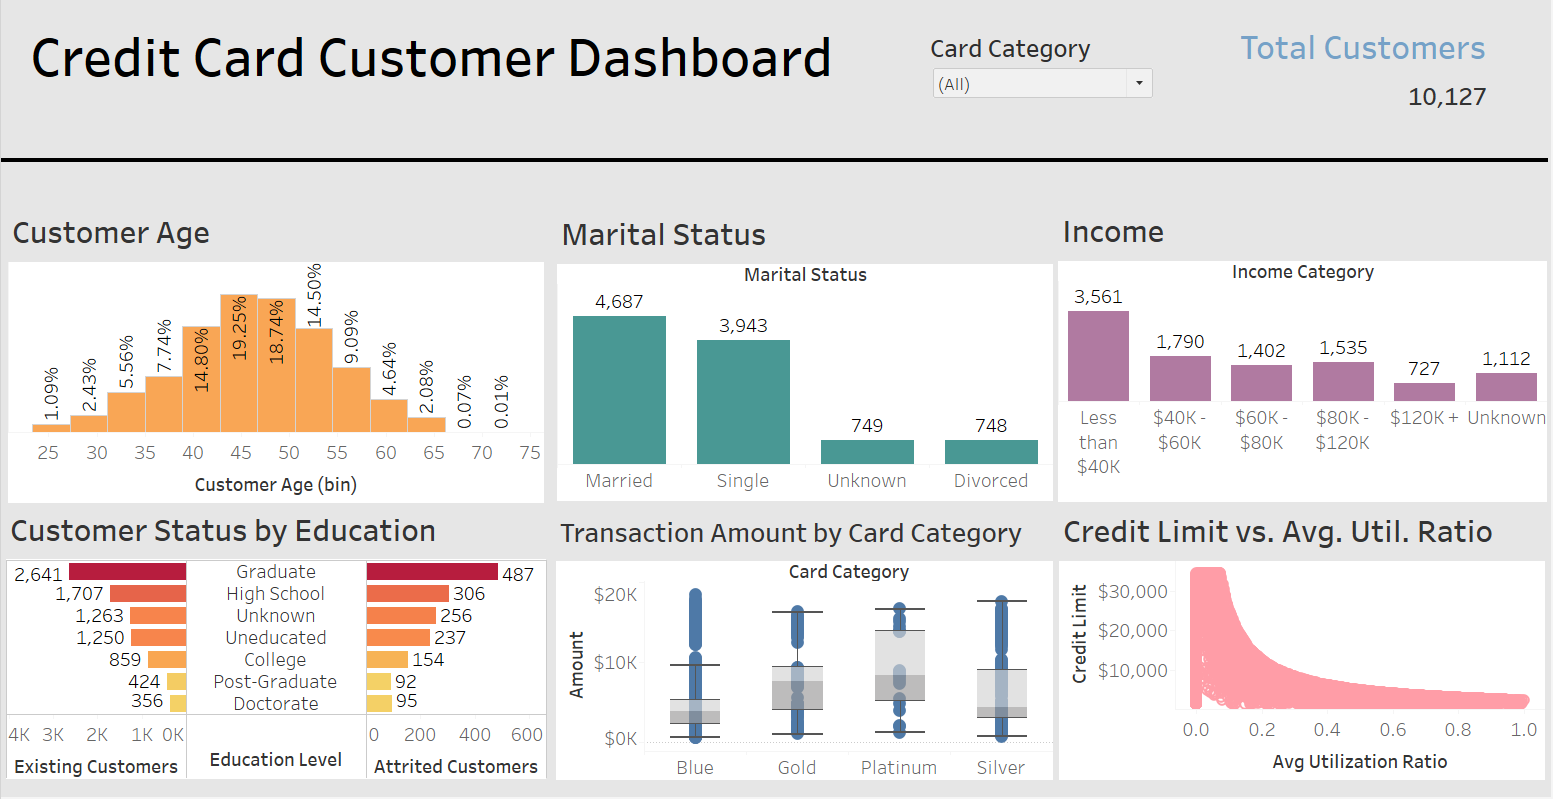

The page's visual inventory and layout, read from the dashboard file:
{"tool":"tableau","page":{"name":"Dashboard 1","canvas":[1550,800],"ordinal":0},"visuals":[{"type":"text","box":[24.8,11,921.7,93]},{"type":"worksheet","title":"Total Customers","mark":"Automatic","box":[1235,23,279,124]},{"type":"filter","title":"Total Transaction Amount by Card Category","param":"[federated.10qff5a03vnng219utbjl1v2qbsm].[none:Card_Category:nk]","box":[929,34,226,70]},{"type":"blank","box":[0,161,1547,4]},{"type":"worksheet","title":"Income","mark":"Automatic","rows":["Income_Category"],"cols":["Income_Category"],"box":[1057.1,208,488.8,297]},{"type":"worksheet","title":"Customer Age","mark":"Automatic","rows":["Customer_Age"],"cols":["Customer Age (bin)"],"box":[7,209,536,297]},{"type":"worksheet","title":"Marital Status","mark":"Automatic","rows":["Marital_Status"],"cols":["Marital_Status"],"box":[556,211,496,293]},{"type":"worksheet","title":"Customer Status by Education","mark":"Automatic","rows":["Education_Level"],"cols":["Calculation_1074390017086087168","Calculation_1074390017086836738","Calculation_1074390017086390273"],"box":[5,507,543,287]},{"type":"worksheet","title":"Credit Limit vs. Avg. Util. Ratio","mark":"Automatic","rows":["Credit_Limit"],"cols":["Avg_Utilization_Ratio"],"box":[1058,508,486,275]},{"type":"worksheet","title":"Total Transaction Amount by Card Category","mark":"Circle","rows":["Total_Trans_Amt"],"cols":["Card_Category"],"box":[555,513,497,270]}]}

Visuals, with their boxes in screenshot pixels (x1, y1, x2, y2), scaled from the page's 1550x800 canvas onto the 1553x799 screenshot:
text: (x1=25, y1=11, x2=948, y2=104)
"Total Customers" worksheet: (x1=1237, y1=23, x2=1517, y2=147)
"Total Transaction Amount by Card Category" filter: (x1=931, y1=34, x2=1157, y2=104)
blank: (x1=0, y1=161, x2=1550, y2=165)
"Income" worksheet: (x1=1059, y1=208, x2=1549, y2=504)
"Customer Age" worksheet: (x1=7, y1=209, x2=544, y2=505)
"Marital Status" worksheet: (x1=557, y1=211, x2=1054, y2=503)
"Customer Status by Education" worksheet: (x1=5, y1=506, x2=549, y2=793)
"Credit Limit vs. Avg. Util. Ratio" worksheet: (x1=1060, y1=507, x2=1547, y2=782)
"Total Transaction Amount by Card Category" worksheet (Circle marks): (x1=556, y1=512, x2=1054, y2=782)
